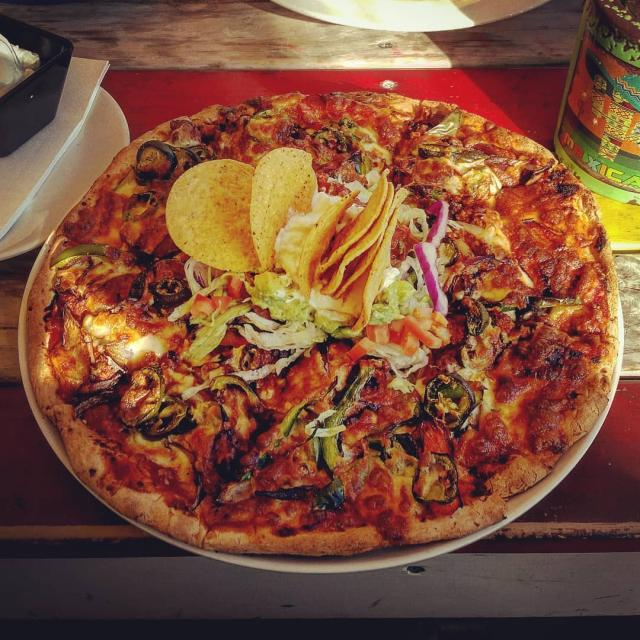peppers: (321, 359, 376, 477), (372, 307, 451, 360), (182, 279, 247, 325), (265, 400, 308, 466), (501, 286, 576, 318), (48, 239, 112, 272), (209, 374, 260, 412)
pizza: (33, 92, 619, 559)
